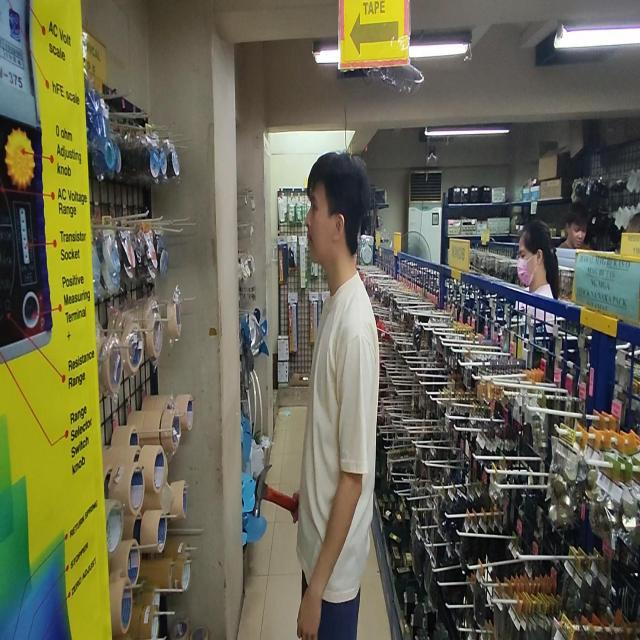hammer: (253, 464, 299, 518)
